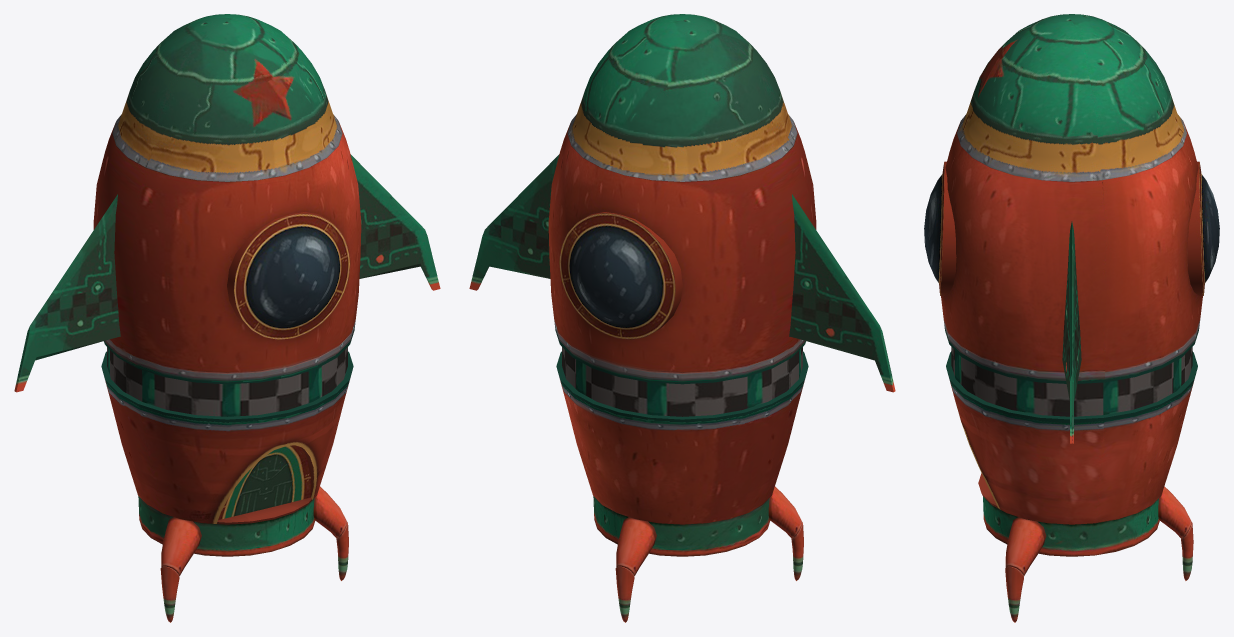
File: rocket ship.obj
3 renders of one model, left to right at view 1: azimuth 30°, elevation 25°; view 2: azimuth 150°, elevation 25°; view 3: azimuth 270°, elevation 25°, orthographic.
Parts seen in each view (by area): view 1: Cylinder001_Mesh.002; view 2: Cylinder001_Mesh.002; view 3: Cylinder001_Mesh.002.
Boxes of the visible parts, x1=… form: Cylinder001_Mesh.002: x1=14, y1=14, x2=440, y2=622; Cylinder001_Mesh.002: x1=469, y1=14, x2=895, y2=622; Cylinder001_Mesh.002: x1=924, y1=14, x2=1219, y2=622.
Bounding box in the file's own units: 26.86 × 33.89 × 16.21.
1 material, 1 textured.
